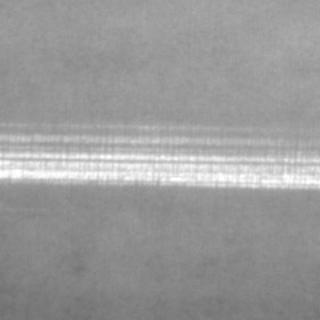scratches: (1, 135, 316, 189)
